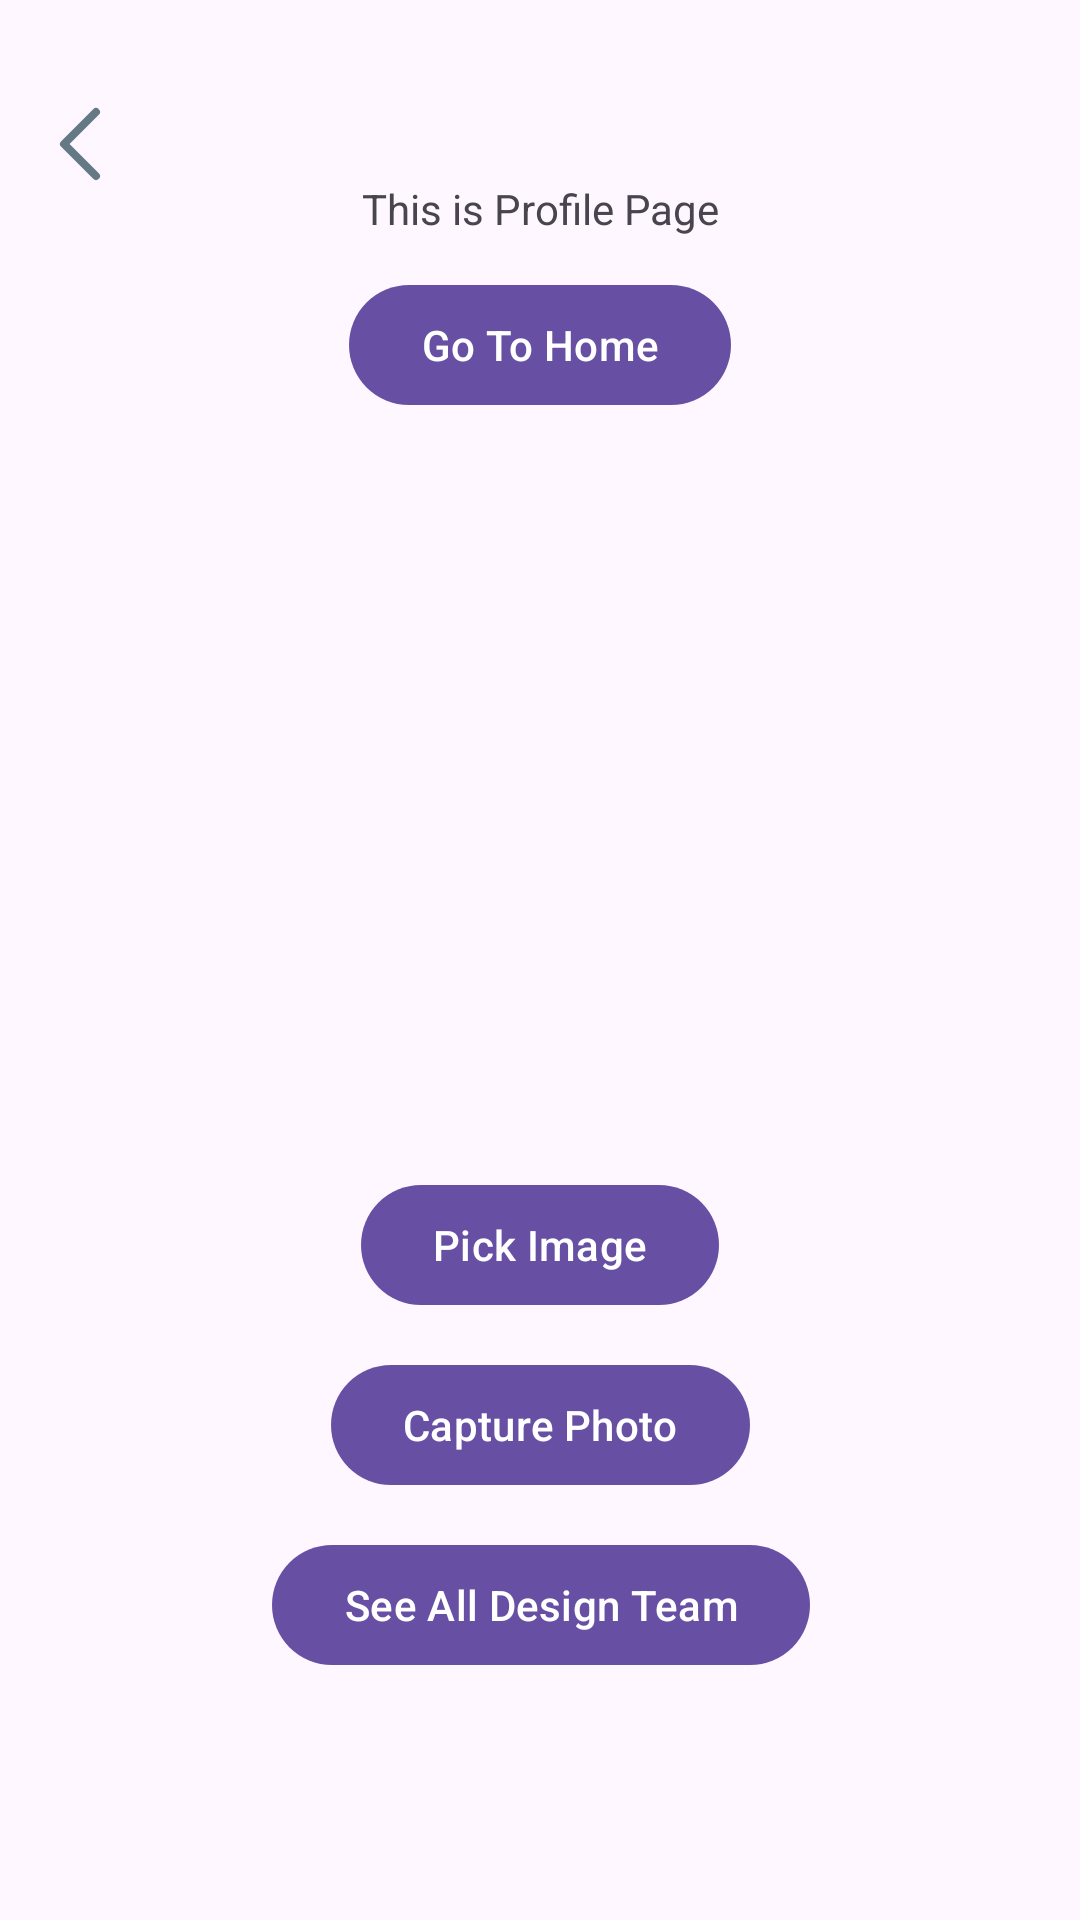

Where icons sit on this 1080w x 1920h app screen, as (x1, y1, x2, y2):
chevron: (60, 107, 100, 180)
